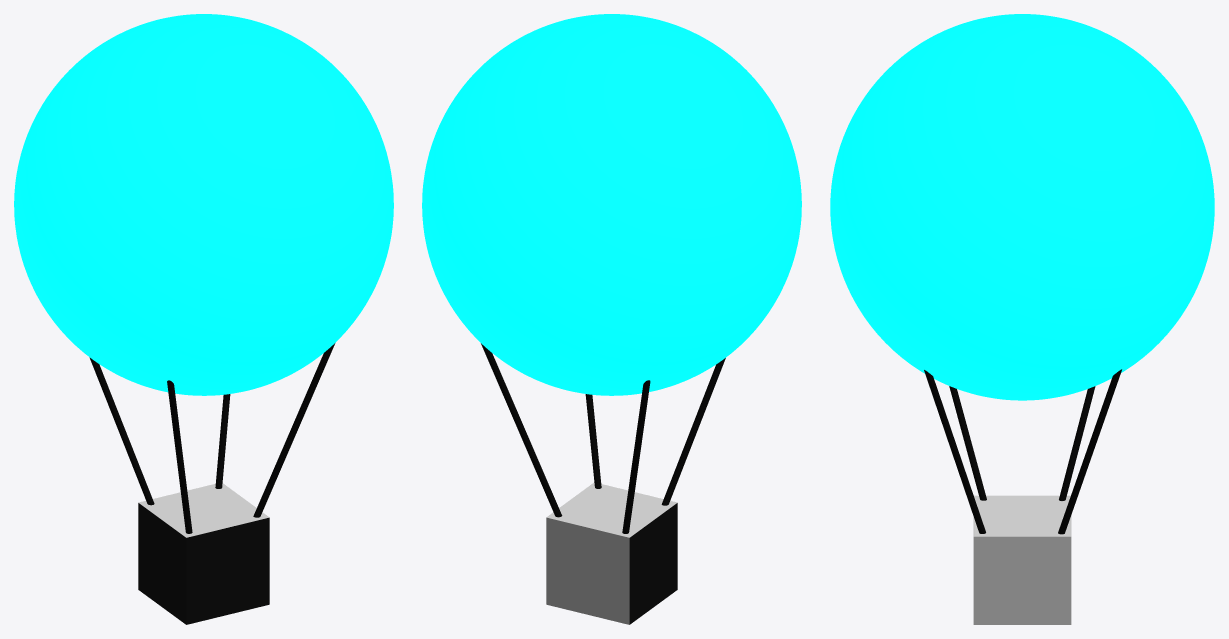
The model's file is balloon_3.glb.
3 views of the same model, side by side, from view 1: azimuth 30°, elevation 25°; view 2: azimuth 150°, elevation 25°; view 3: azimuth 270°, elevation 25° (orthographic).
Parts seen in each view (by area): view 1: 球体, 立方体, 柱体.001, 柱体.003, 柱体.002, 柱体.004; view 2: 球体, 立方体, 柱体.004, 柱体.002, 柱体.003, 柱体.001; view 3: 球体, 立方体, 柱体.004, 柱体.001, 柱体.002, 柱体.003.
Part boxes in pixels (box(x1,y1,x2,y2)): 球体: box(14, 14, 393, 395); 立方体: box(138, 483, 269, 624); 柱体.001: box(253, 343, 335, 517); 柱体.003: box(89, 357, 154, 505); 柱体.002: box(167, 380, 192, 533); 柱体.004: box(215, 394, 230, 488); 球体: box(422, 14, 801, 395); 立方体: box(546, 482, 677, 624); 柱体.004: box(481, 343, 562, 517); 柱体.002: box(661, 358, 725, 505); 柱体.003: box(622, 380, 650, 533); 柱体.001: box(585, 394, 601, 488); 球体: box(830, 14, 1214, 400); 立方体: box(973, 495, 1071, 624); 柱体.004: box(1058, 369, 1121, 534); 柱体.001: box(924, 370, 985, 533); 柱体.002: box(949, 386, 986, 500); 柱体.003: box(1059, 386, 1095, 500).
Size of the model in its own units: 7.9 by 12.99 by 7.9.
Materials: 4 (1 with a texture image).
